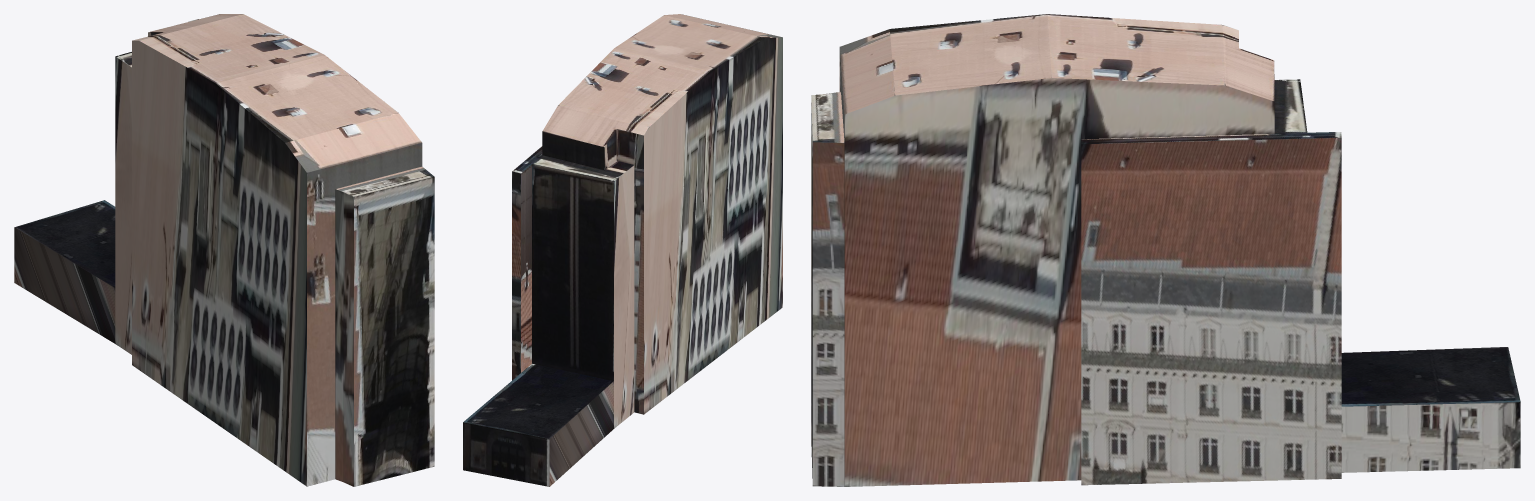
The picture shows the model from 3 angles, left to right: view 1: azimuth 30°, elevation 25°; view 2: azimuth 150°, elevation 25°; view 3: azimuth 270°, elevation 25°; orthographic projection. The views are drawn at different scales.
Parts seen in each view (by area): view 1: Z_UP; view 2: Z_UP; view 3: Z_UP.
Boxes of the visible parts, box(x1,y1,x2,y2) form: Z_UP: box(14, 14, 434, 486); Z_UP: box(463, 14, 782, 486); Z_UP: box(811, 14, 1520, 486).
Size of the model in its own units: 11.1 by 28.18 by 44.93.
Materials: 2 (1 with a texture image).
